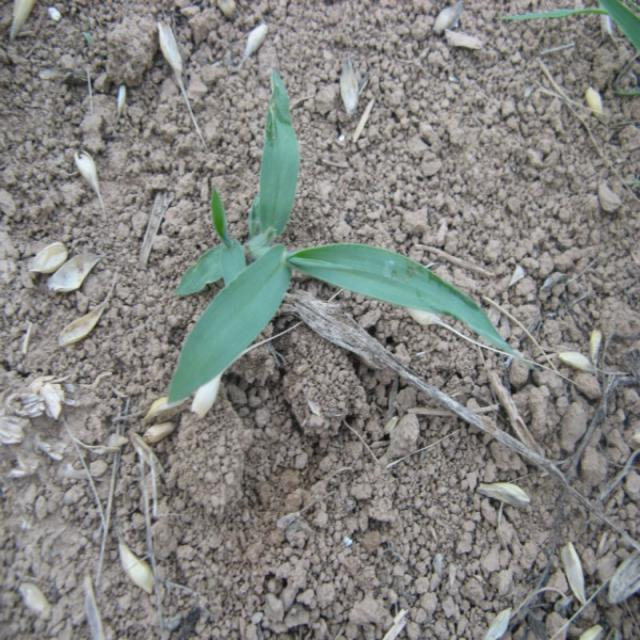bg: (174, 74, 510, 392)
